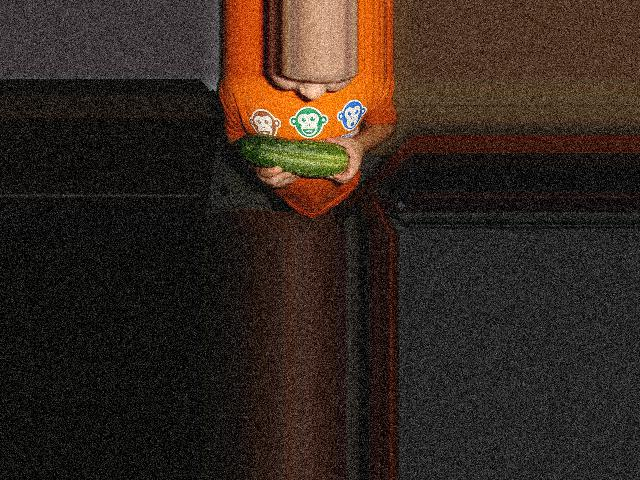cucumber: (235, 134, 349, 177)
